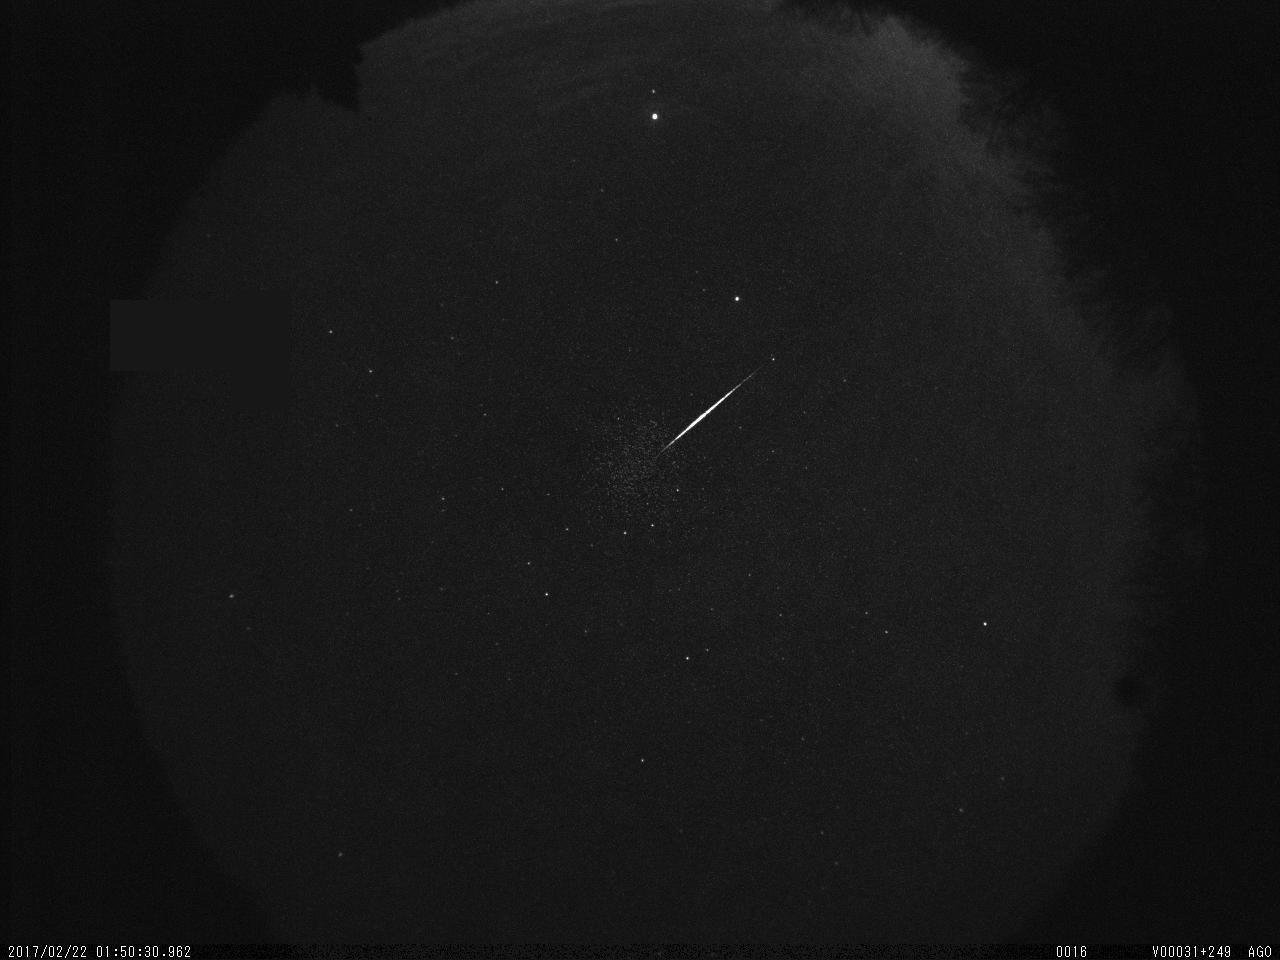meteor: (636, 336, 802, 480)
